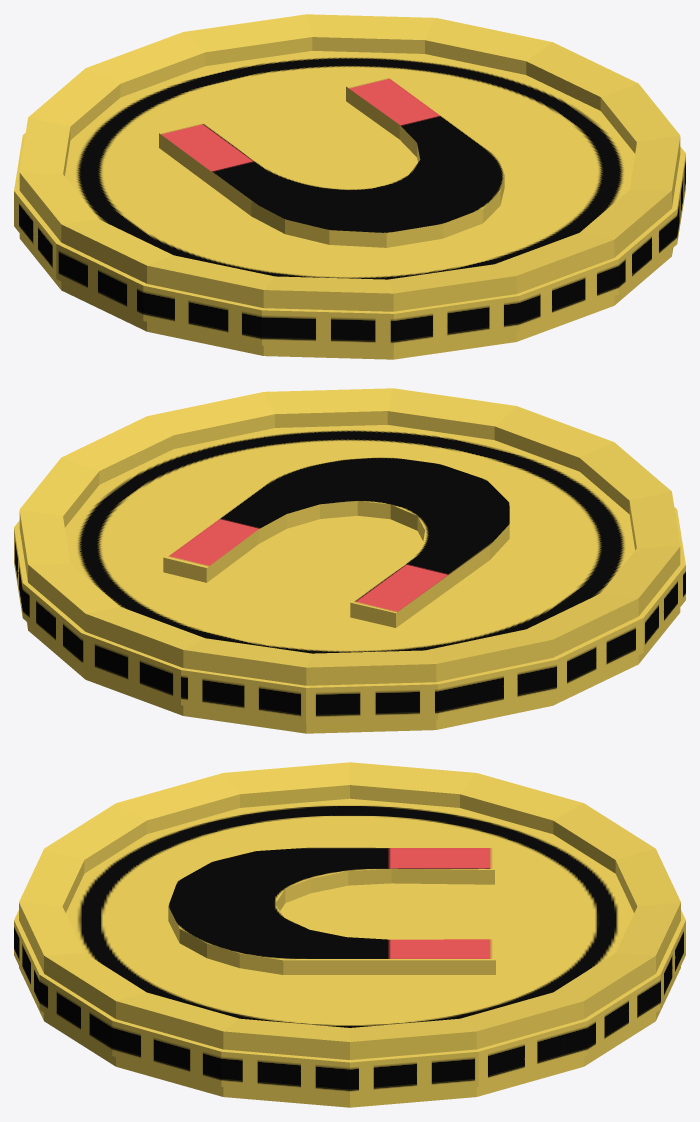
The model's file is CoinU.glb.
3 renders of one model, top to bottom at view 1: azimuth 30°, elevation 25°; view 2: azimuth 150°, elevation 25°; view 3: azimuth 270°, elevation 25°, orthographic.
Parts seen in each view (by area): view 1: Círculo; view 2: Círculo; view 3: Círculo.
Boxes of the visible parts, x1,y1,x2,y2 form: Círculo: [14, 14, 685, 359]; Círculo: [14, 388, 685, 733]; Círculo: [14, 762, 685, 1107].
Bounding box in the file's own units: 2.03 × 0.2188 × 2.03.
Materials: 1 (1 with a texture image).
